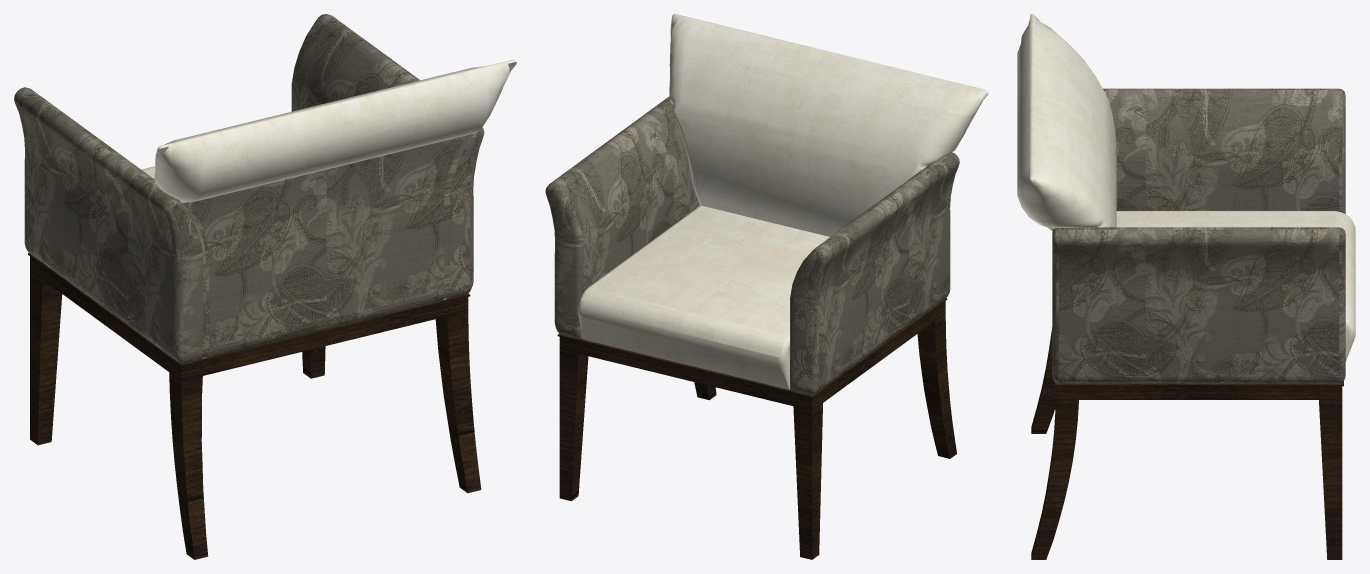
3 views of the same model, side by side, from view 1: azimuth 30°, elevation 25°; view 2: azimuth 150°, elevation 25°; view 3: azimuth 270°, elevation 25° (orthographic). The views are drawn at different scales.
Parts seen in each view (by area): view 1: skp3C7_ID62, skp3C7_ID75, A-FURN-3-S_4_ID6, A-FURN-302_3_ID38; view 2: skp3C7_ID75, skp3C7_ID62, A-FURN-301_4_ID21, A-FURN-3-S_4_ID6, A-FURN-302_3_ID38; view 3: skp3C7_ID62, skp3C7_ID75, A-FURN-3-S_4_ID6, A-FURN-301_4_ID21, A-FURN-302_3_ID38.
Part boxes in pixels (x1,y1,x2,y2): skp3C7_ID62: [14, 14, 484, 363]; skp3C7_ID75: [154, 59, 516, 203]; A-FURN-3-S_4_ID6: [30, 256, 481, 559]; A-FURN-302_3_ID38: [28, 253, 470, 366]; skp3C7_ID75: [669, 14, 988, 236]; skp3C7_ID62: [545, 96, 959, 395]; A-FURN-301_4_ID21: [578, 205, 829, 389]; A-FURN-3-S_4_ID6: [559, 301, 956, 559]; A-FURN-302_3_ID38: [557, 298, 947, 398]; skp3C7_ID62: [1052, 88, 1345, 383]; skp3C7_ID75: [1017, 14, 1116, 231]; A-FURN-3-S_4_ID6: [1031, 327, 1342, 559]; A-FURN-301_4_ID21: [1116, 211, 1355, 361]; A-FURN-302_3_ID38: [1054, 381, 1343, 386].
Size of the model in its own units: 0.5766 by 0.6477 by 0.498.
5 materials, 3 textured.
